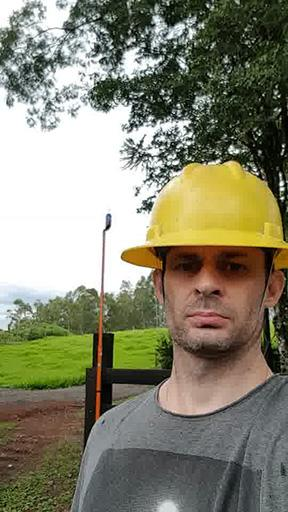Vara_Manobra: (92, 233, 108, 424)
